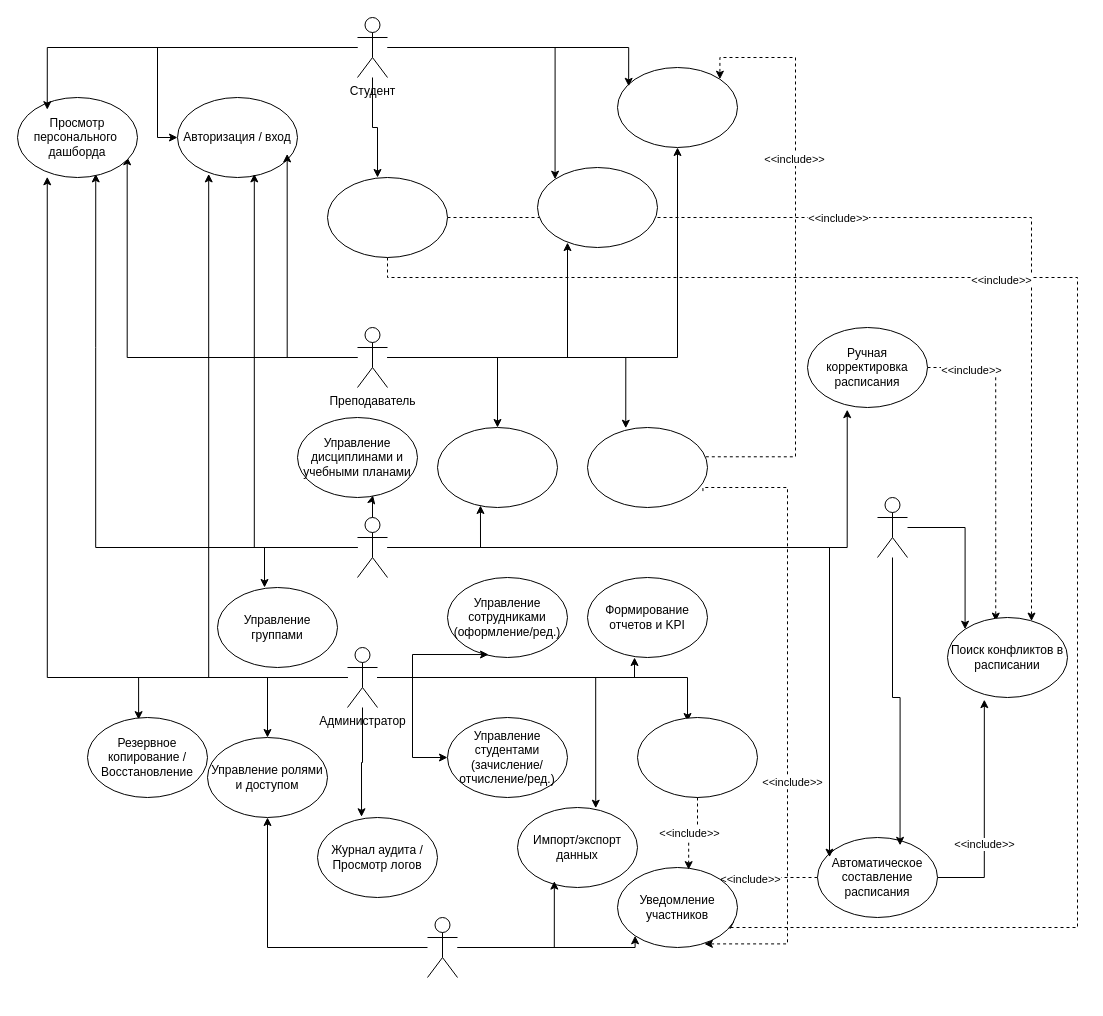
The diagram is 1103 pixels wide and 1016 high, and some of its shapes have lost their labels. The shapes that lost their labels are listed below. From the top down, each one's centre as x and y in pixels, then its label:
(x=677, y=107): Просмотр успеваемости
(x=387, y=217): Запись на электив/курс
(x=597, y=207): Просмотр расписания
(x=497, y=467): Бронирование аудитории
(x=647, y=467): Ввод/редактирование оценок
(x=372, y=547): Методист
(x=892, y=527): Подсистема планирования
(x=697, y=757): Создание/регистрация приказов
(x=442, y=947): Внешняя система
